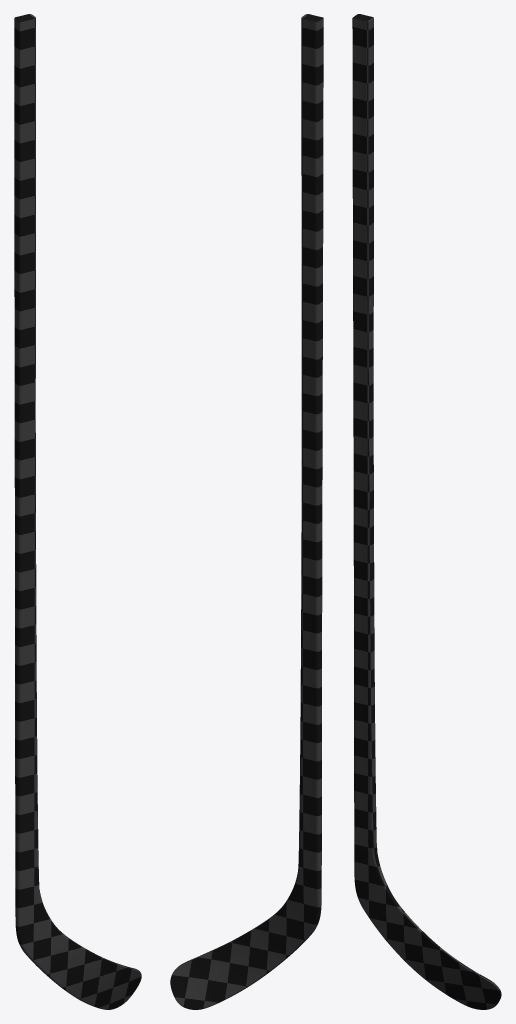
File: P91DN-SBT.glb
3 renders of one model, left to right at view 1: azimuth 30°, elevation 25°; view 2: azimuth 150°, elevation 25°; view 3: azimuth 330°, elevation 25°, orthographic. The views are drawn at different scales.
Parts seen in each view (by area): view 1: geometry_0; view 2: geometry_0; view 3: geometry_0.
Boxes of the visible parts, box(x1,y1,x2,y2) form: geometry_0: box(14, 14, 141, 1009); geometry_0: box(170, 14, 323, 1009); geometry_0: box(352, 14, 501, 1009).
Bounding box in the file's own units: 234 × 1650 × 61.22.
Materials: 1 (1 with a texture image).
